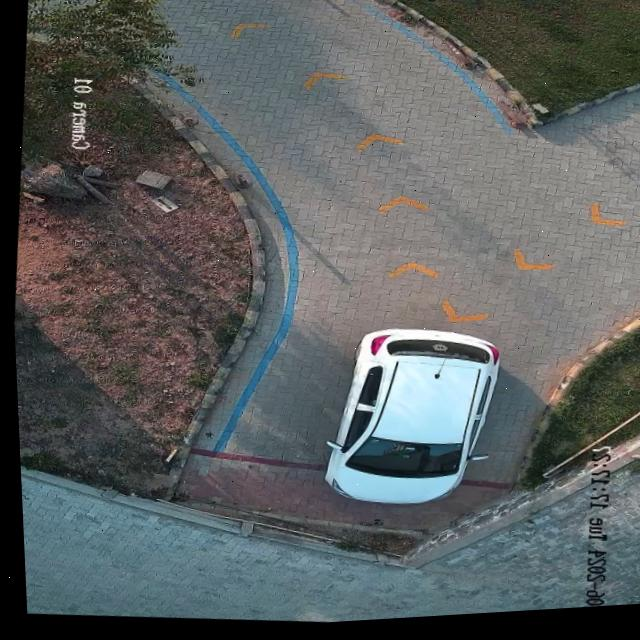car: (319, 333, 493, 509)
